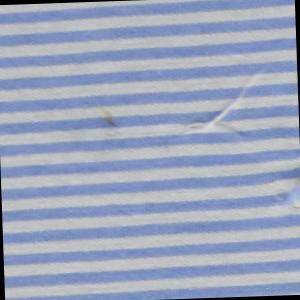Damage: (178, 61, 300, 223)
Oil Stain: (94, 99, 129, 142)
